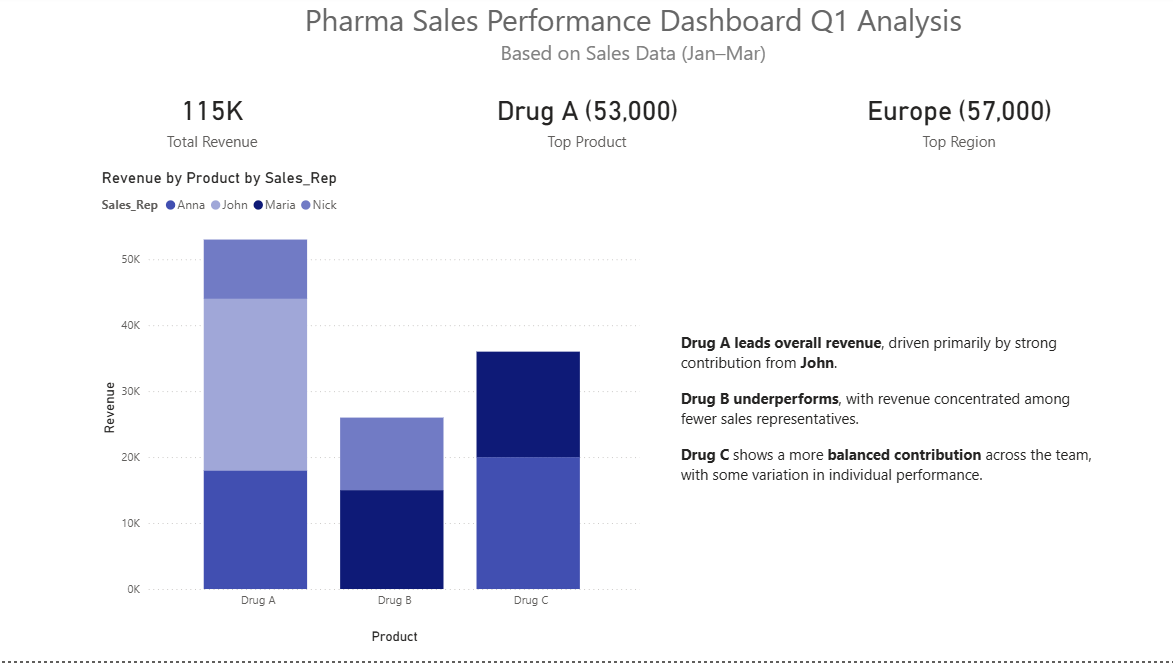

Layout of this report page (visuals, bound fields, positions):
{"tool":"powerbi","page":{"name":"Page 2","canvas":[1280,720],"ordinal":1},"visuals":[{"type":"columnChart","title":"Revenue by Product by Sales_Rep","fields":{"Category":["pharma_sales.Product","pharma_sales.Product Hierarchy.Product"],"Y":["Sum(pharma_sales.Revenue)"],"Series":["pharma_sales.Sales_Rep"]},"box":[113.4,187.1,580.2,491.3],"z":0},{"type":"card","fields":{"Values":["pharma_sales.Total Revenue"]},"box":[0,36,474,150],"z":1000},{"type":"card","fields":{"Values":["pharma_sales.Total Units"]},"box":[404.4,37.8,474.3,149.3],"z":2000},{"type":"card","fields":{"Values":["pharma_sales.Avg Revenue"]},"box":[806,38,474,150],"z":3000},{"type":"textbox","box":[738.9,359.1,374.2,309.9],"z":3001}]}

Visuals, with their boxes in screenshot pixels (x1, y1, x2, y2), scaled from the page's 1280x720 canvas onto the 1173x663 screenshot:
"Revenue by Product by Sales_Rep" columnChart: <bbox>104, 172, 636, 625</bbox>
card - pharma_sales.Total Revenue: <bbox>0, 33, 434, 171</bbox>
card - pharma_sales.Total Units: <bbox>371, 35, 805, 172</bbox>
card - pharma_sales.Avg Revenue: <bbox>739, 35, 1172, 173</bbox>
textbox: <bbox>677, 331, 1020, 616</bbox>
